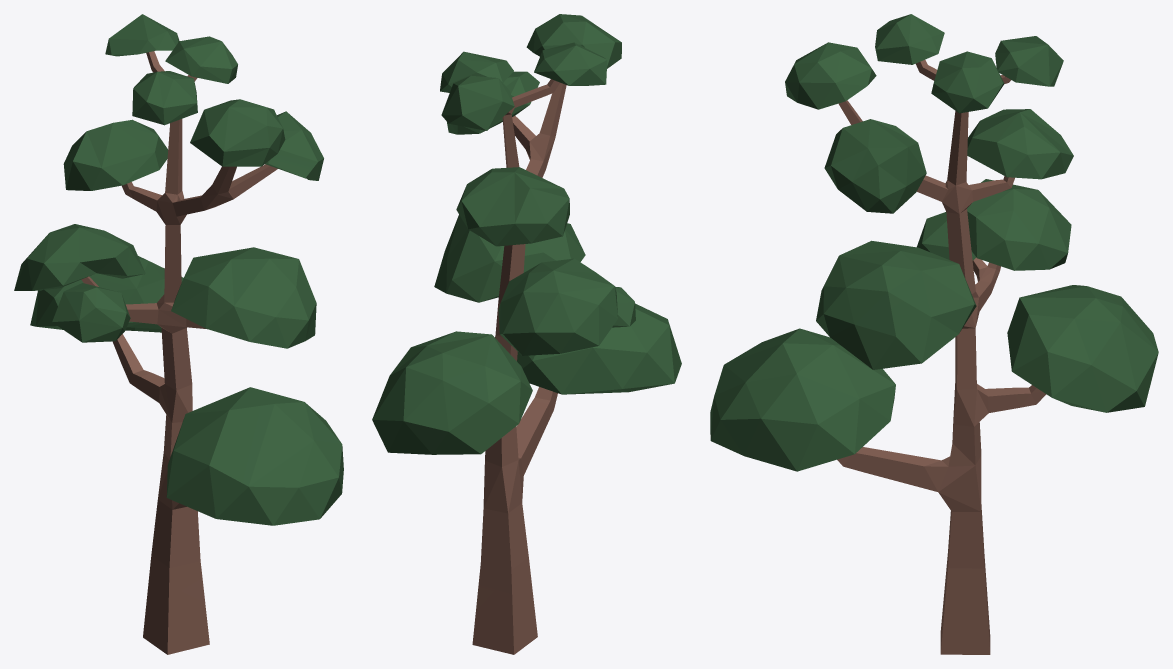
Rendered from tree-05.glb.
3 views of the same model, side by side, from view 1: azimuth 30°, elevation 25°; view 2: azimuth 150°, elevation 25°; view 3: azimuth 270°, elevation 25° (orthographic). The views are drawn at different scales.
Visible parts, largest first — view 1: Tree6_1; view 2: Tree6_1; view 3: Tree6_1.
Boxes of the visible parts, x1,y1,x2,y2 form: Tree6_1: (14,14,343,654); Tree6_1: (372,14,681,654); Tree6_1: (710,14,1158,654).
Size of the model in its own units: 4.65 by 11.55 by 7.72.
